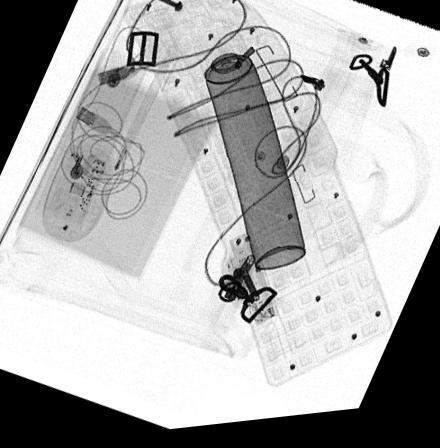Sprayer: (193, 31, 306, 276)
